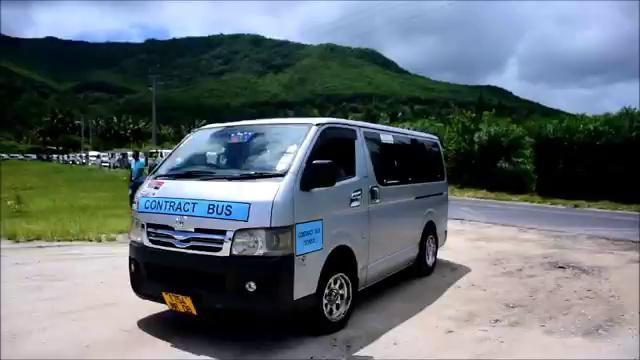van: (128, 114, 451, 332)
